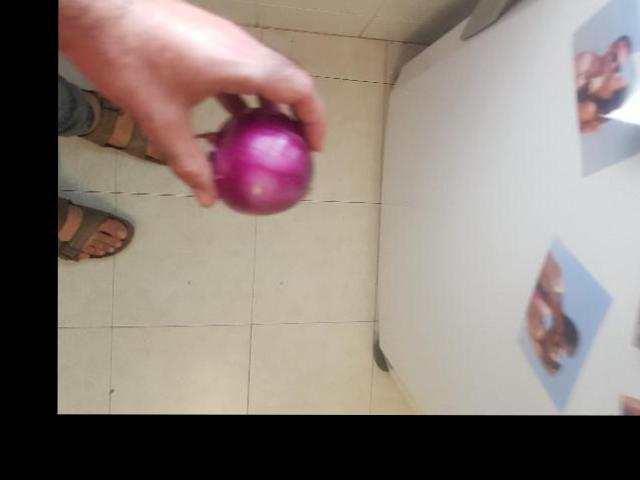onion: (191, 92, 309, 212)
